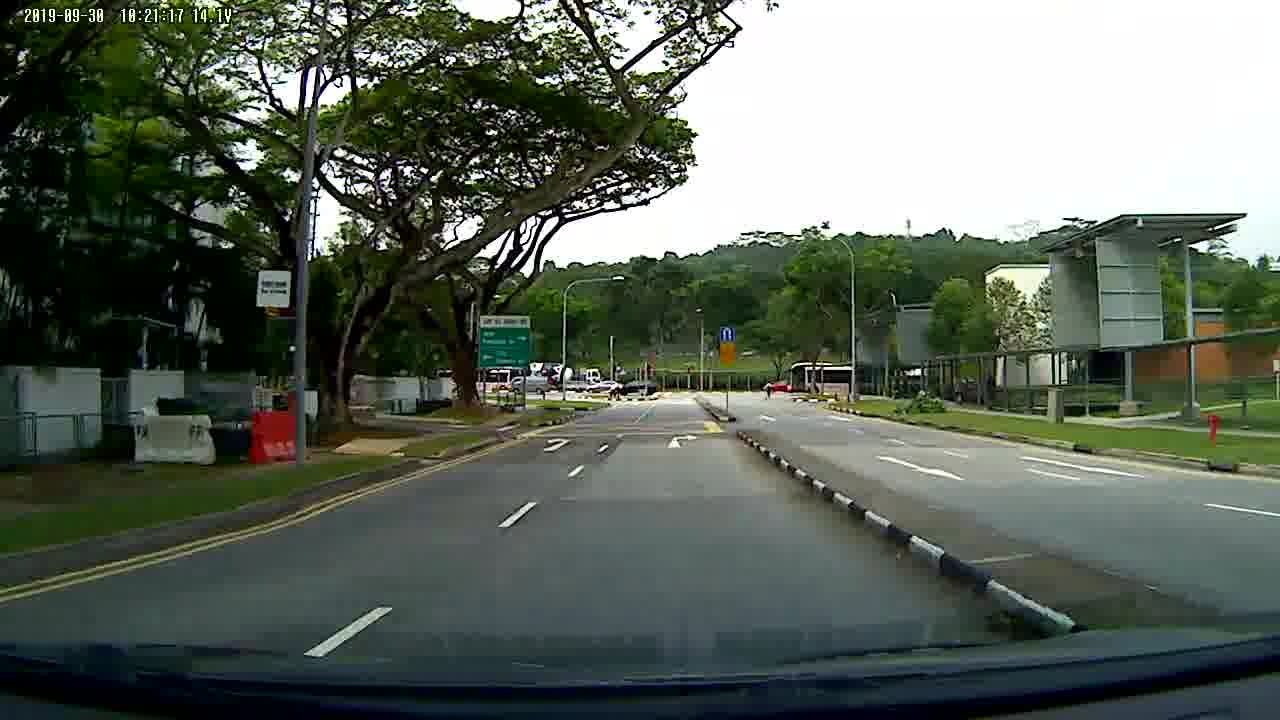bus: (786, 361, 851, 396)
car: (586, 378, 621, 394)
